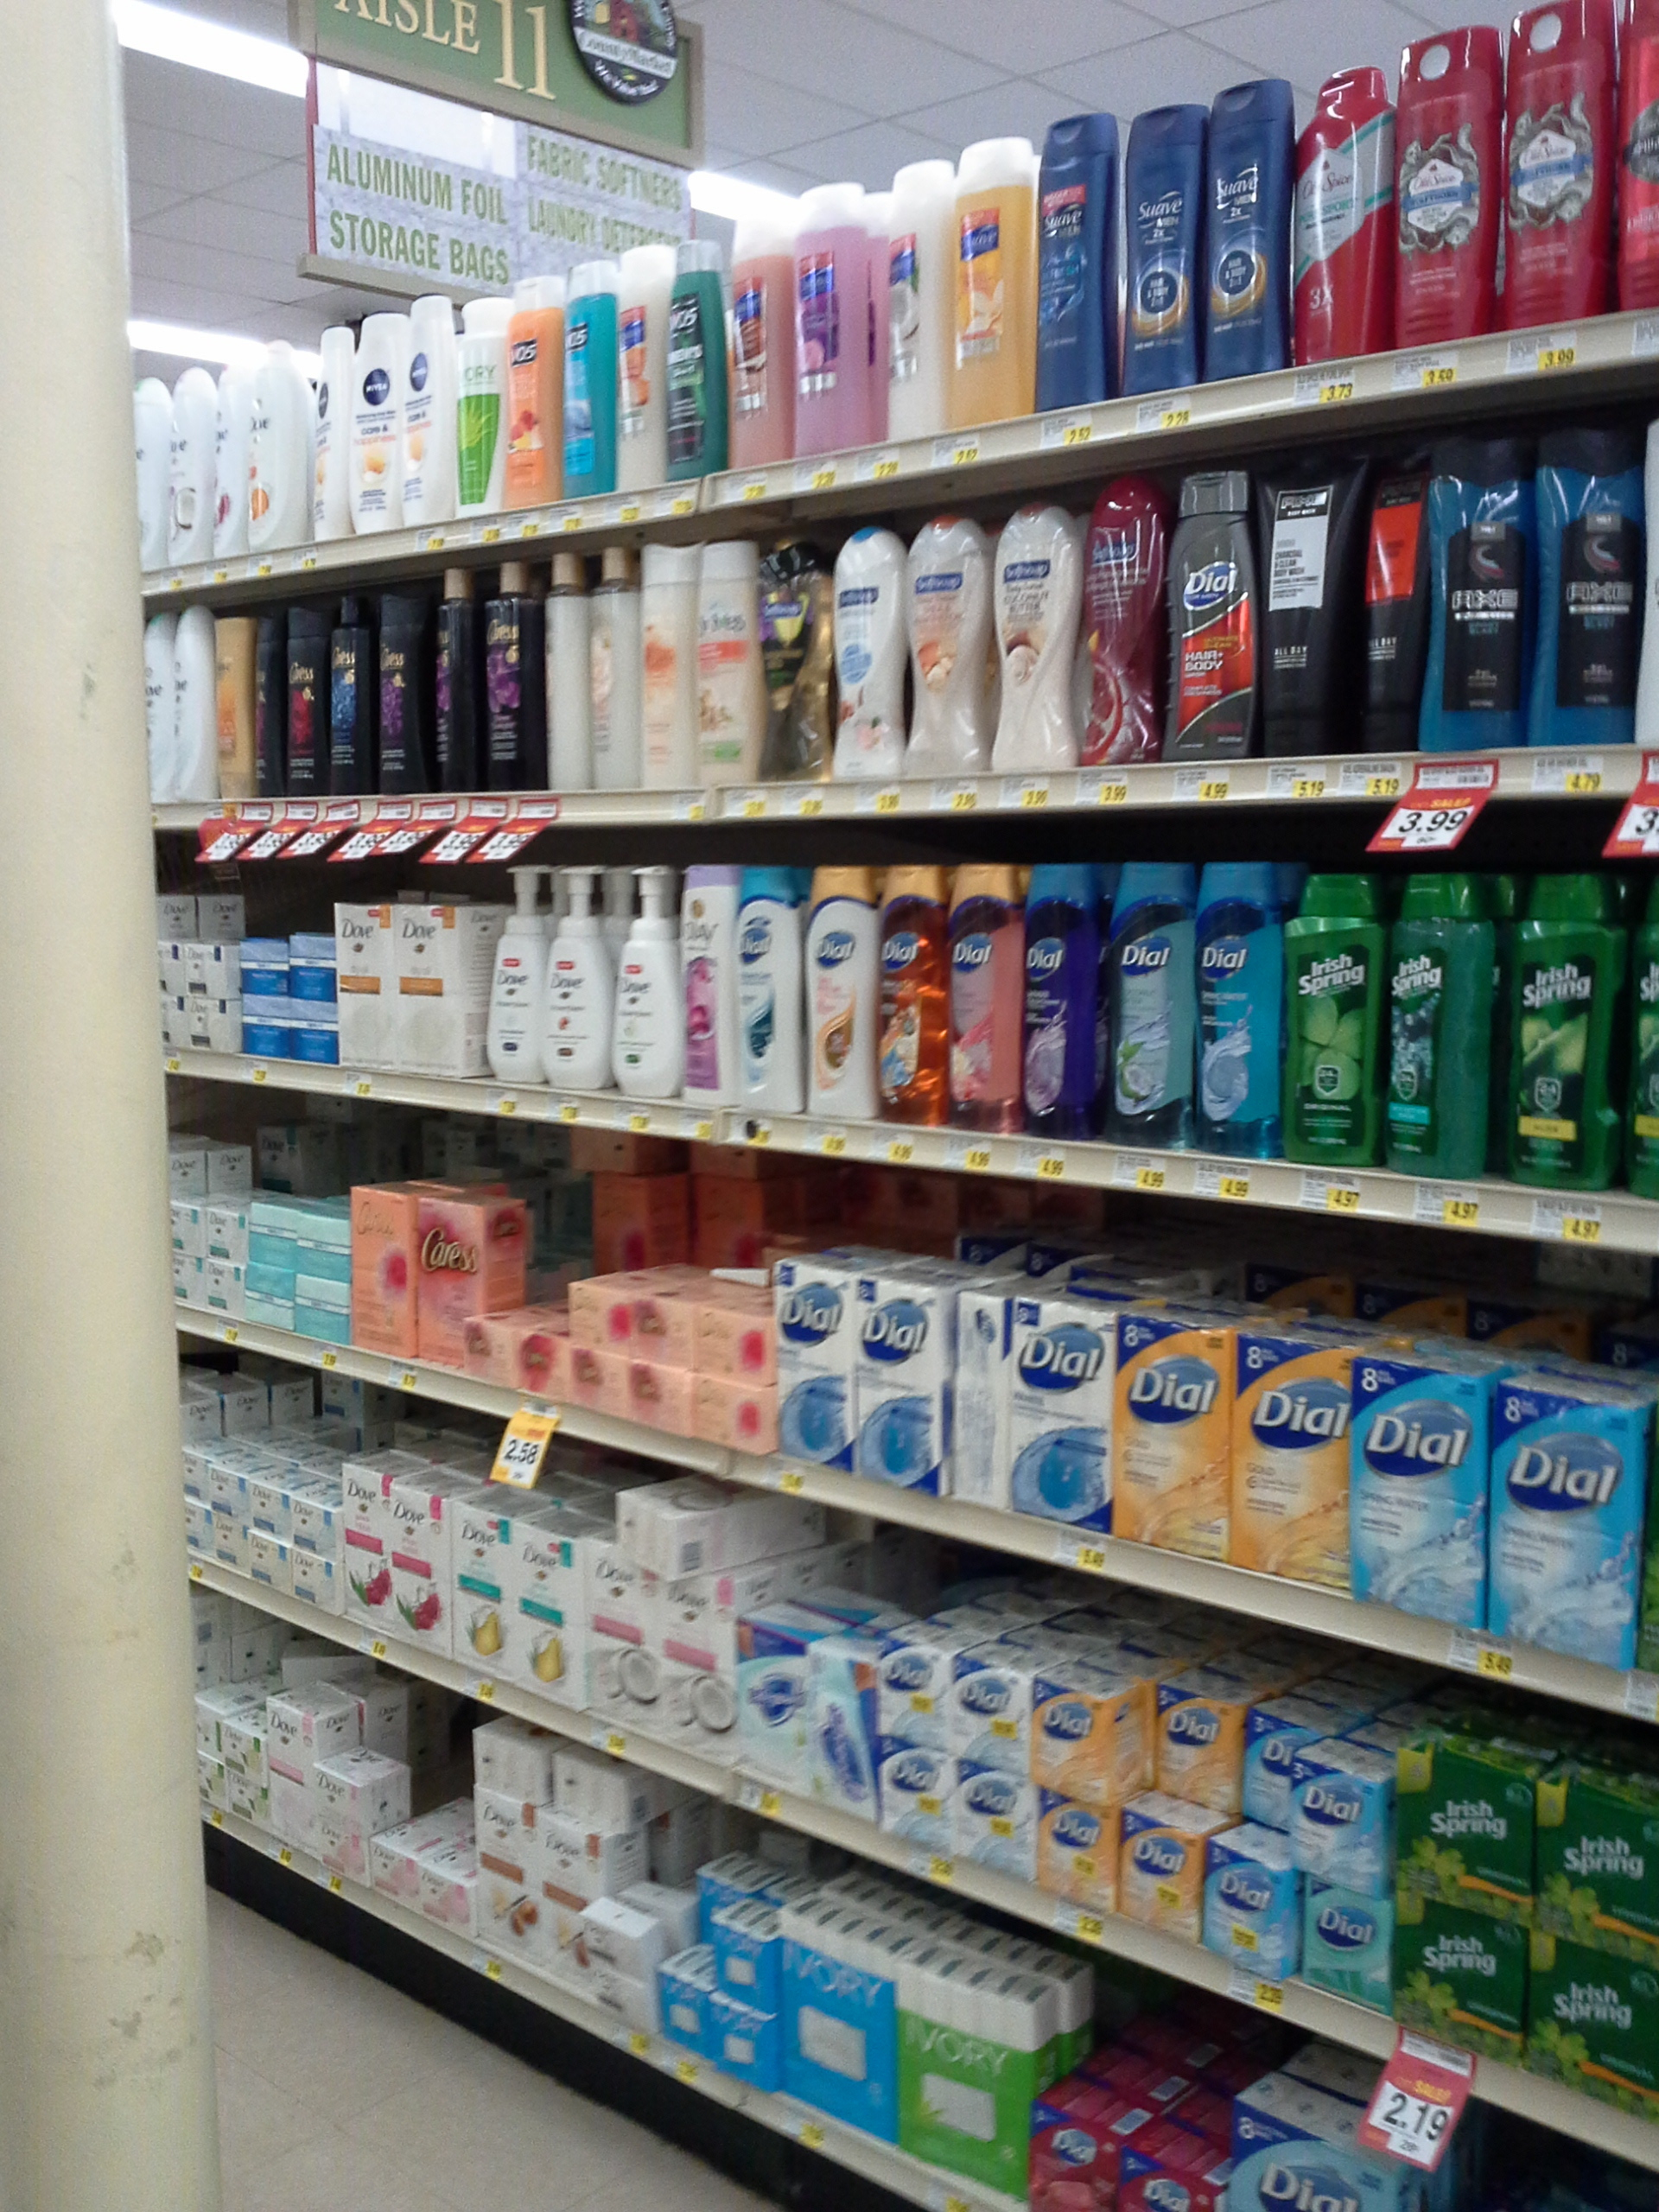Misplacement: (659, 1844, 791, 2080)
